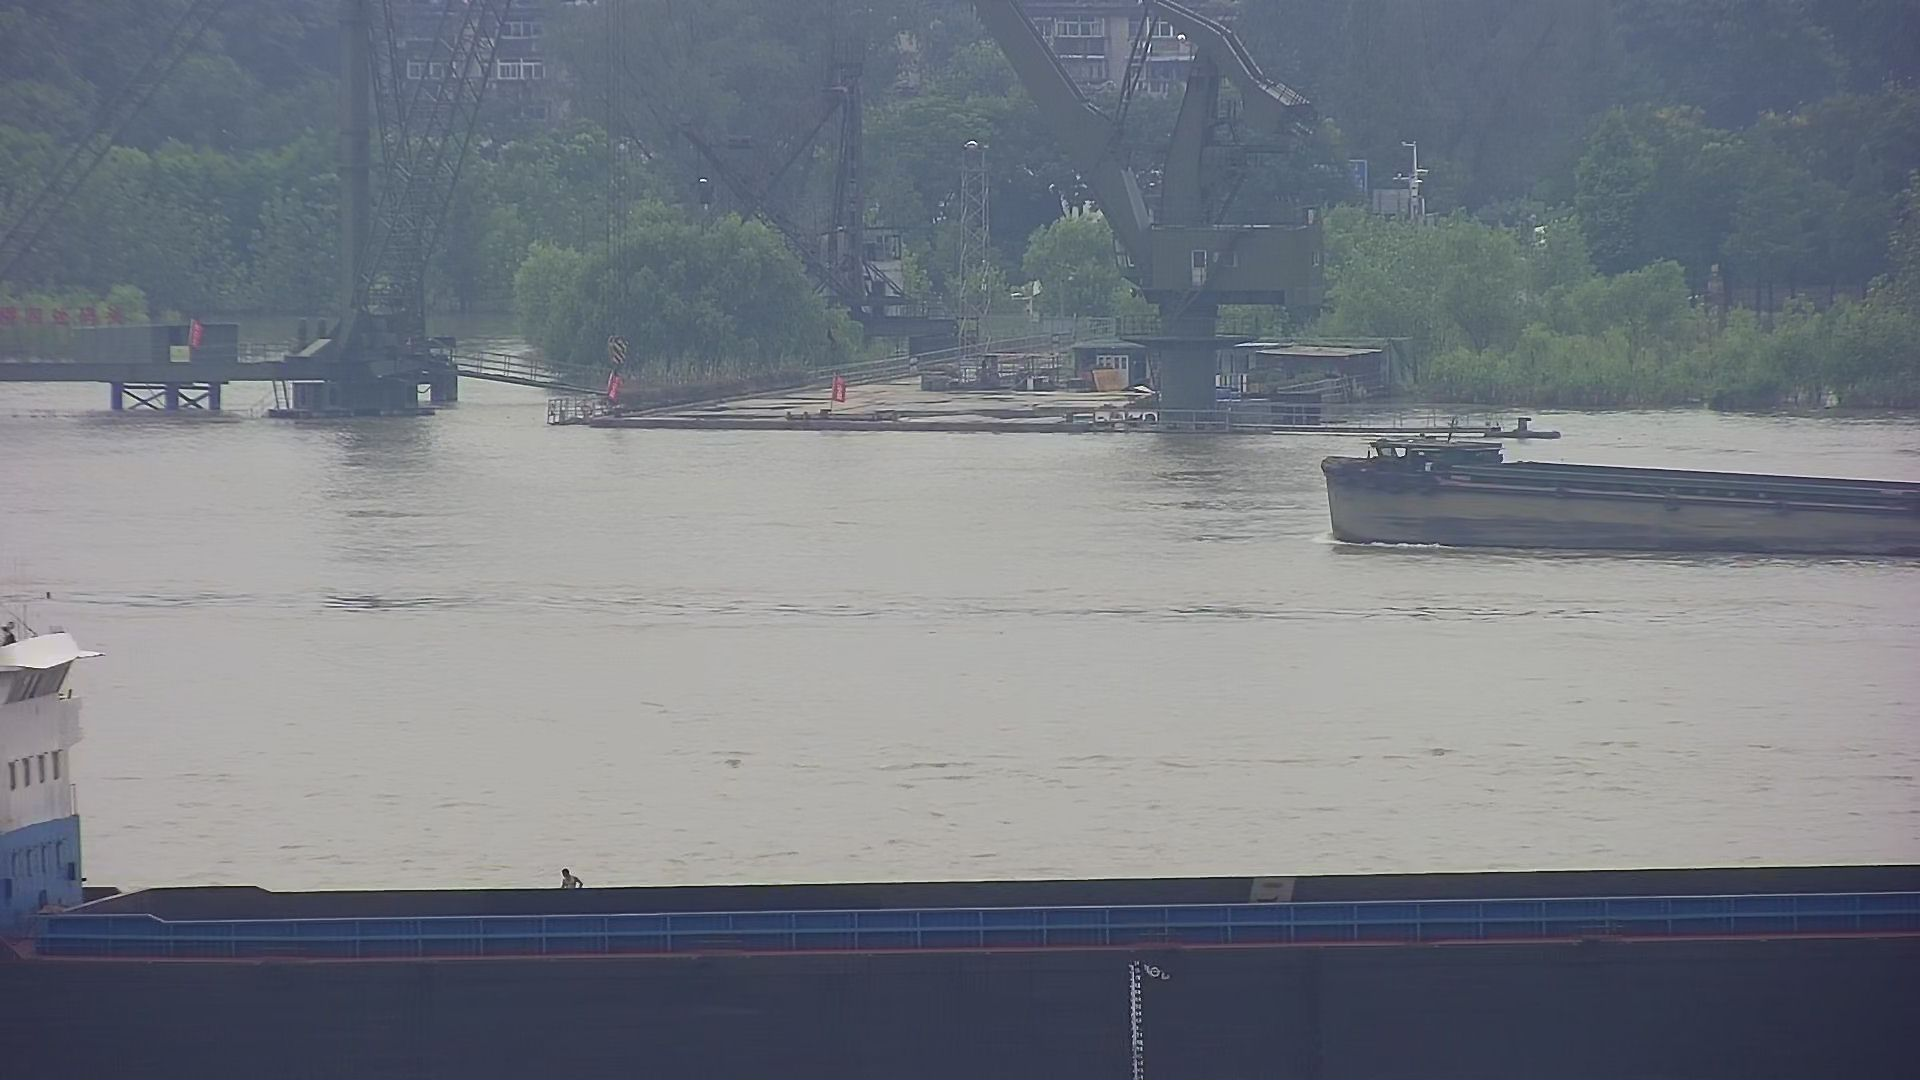platform: (1, 1, 485, 436)
ship: (3, 576, 1920, 1080), (1305, 427, 1920, 564)
